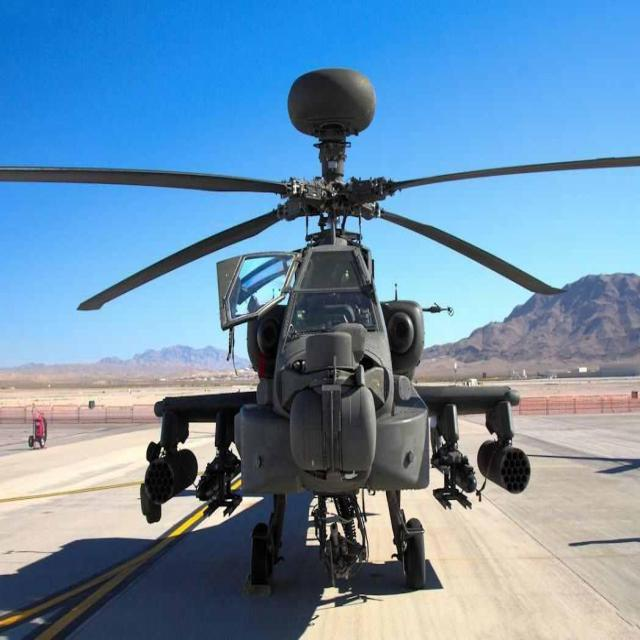MIL_HELO: (0, 57, 640, 589)
